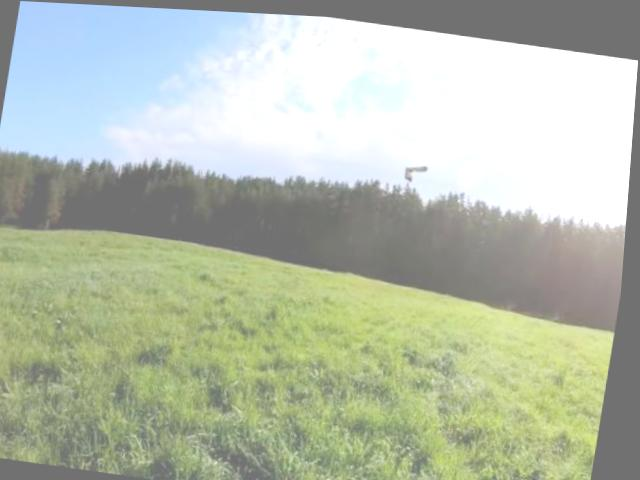flying wing: (402, 156, 432, 181)
